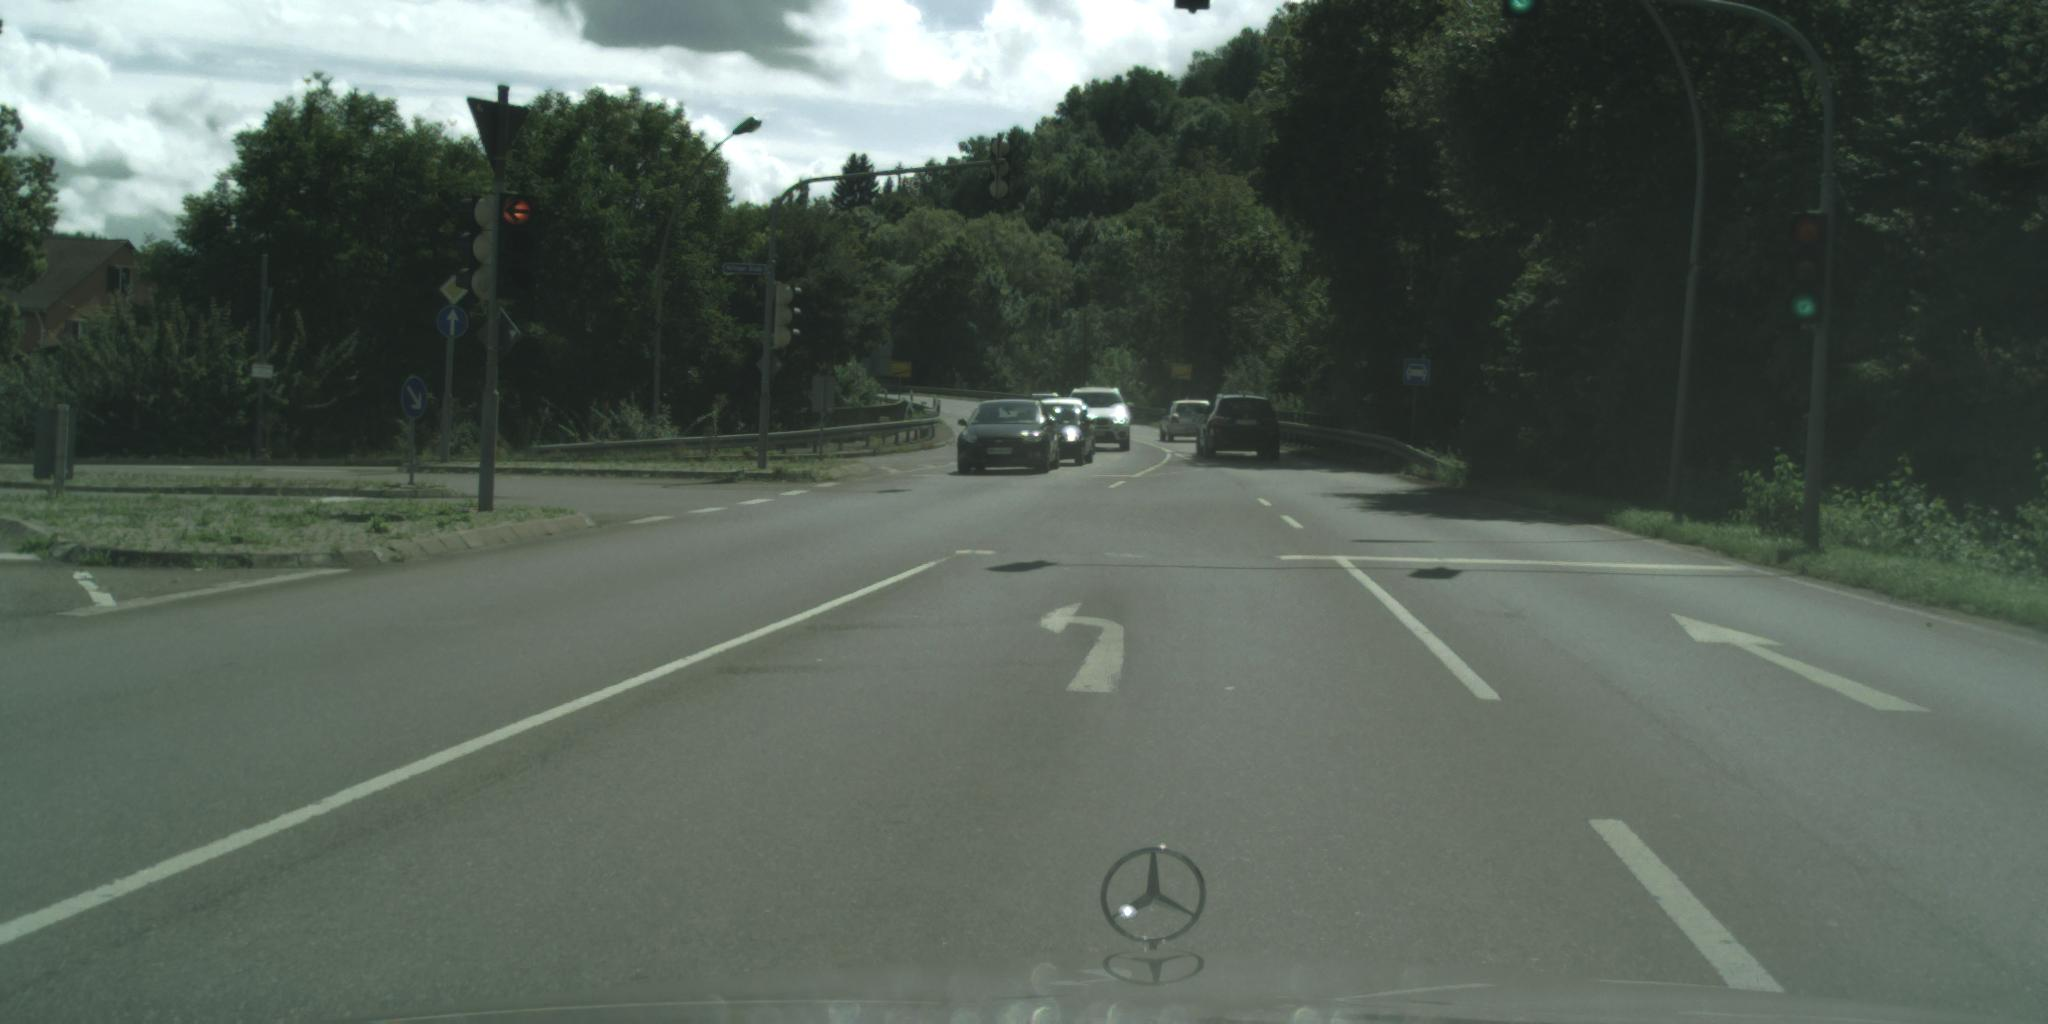car: (956, 400, 1063, 475), (1195, 394, 1281, 461), (1037, 398, 1100, 468), (1068, 388, 1132, 455), (1160, 398, 1219, 444)
